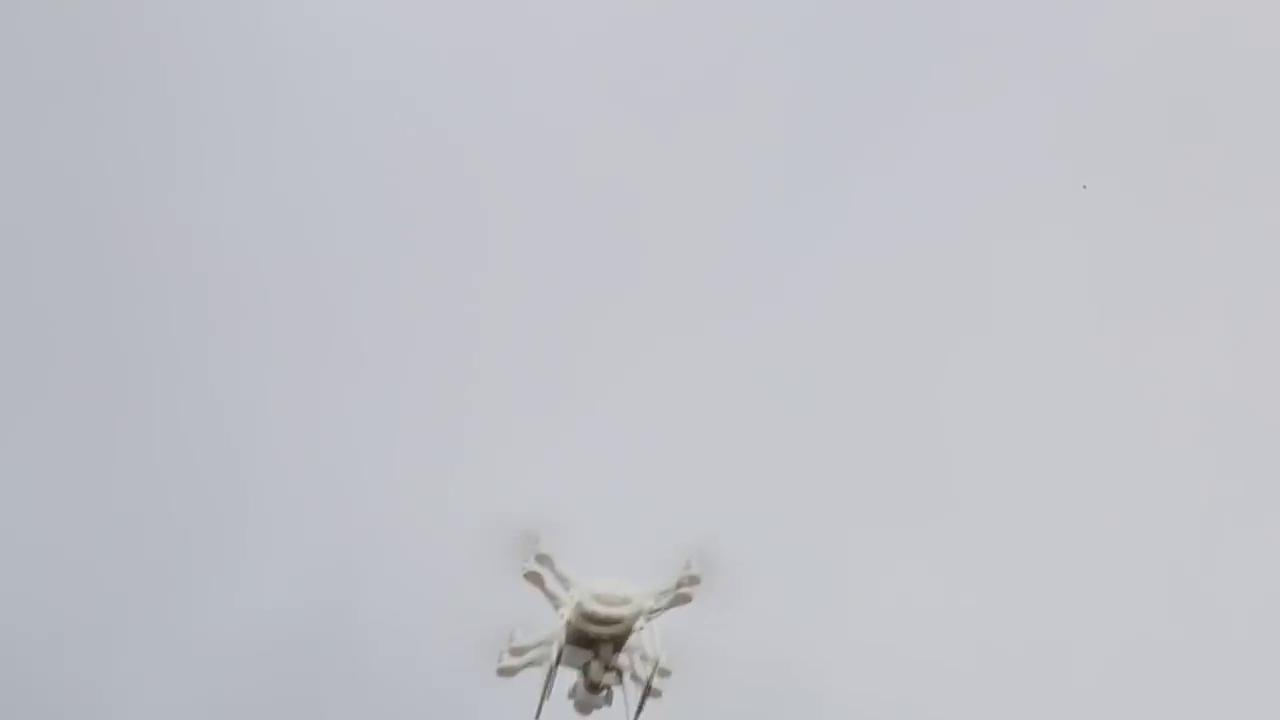drone: (473, 540, 720, 708)
